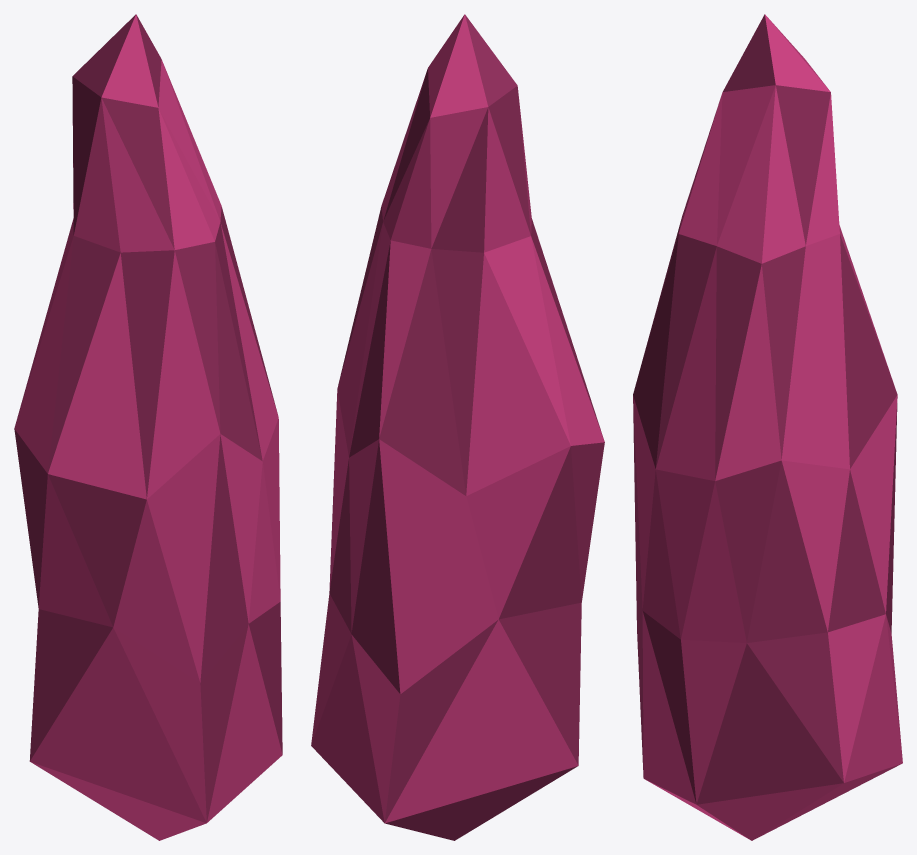
File: Tree_1_Pink.fbx
3 renders of one model, left to right at view 1: azimuth 30°, elevation 25°; view 2: azimuth 150°, elevation 25°; view 3: azimuth 270°, elevation 25°, orthographic. The views are drawn at different scales.
Visible parts, largest first — view 1: Tree_1_Pink; view 2: Tree_1_Pink; view 3: Tree_1_Pink.
Boxes of the visible parts, box(x1,y1,x2,y2) form: Tree_1_Pink: box(14, 14, 282, 840); Tree_1_Pink: box(311, 14, 604, 840); Tree_1_Pink: box(633, 14, 902, 840).
Bounding box in the file's own units: 183 × 596 × 178.
